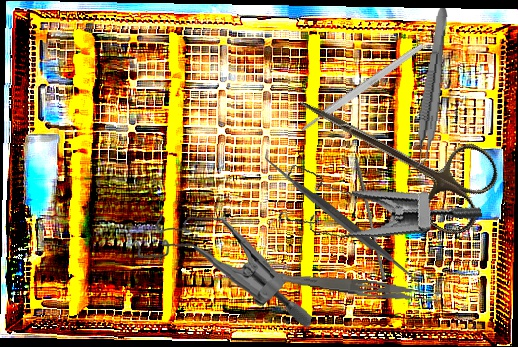Dressing Forceps: (281, 271, 444, 307)
Iris Scissors: (276, 65, 507, 243)
Pusher: (349, 158, 391, 281)
Scalpel Handle: (298, 41, 426, 134)
Spatula Surgical: (264, 146, 422, 297)
Speculum: (266, 122, 484, 269), (127, 208, 317, 330)
Tissue Forceps: (411, 6, 450, 169)
